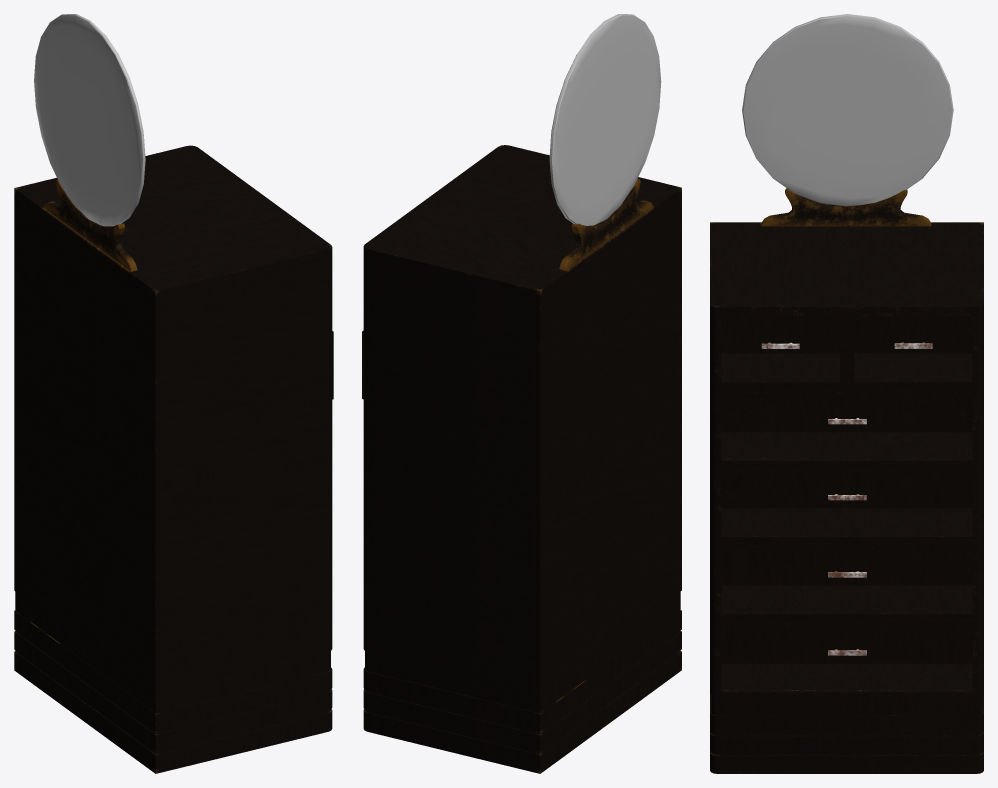
File: TallCabinet.fbx
3 views of the same model, side by side, from view 1: azimuth 30°, elevation 25°; view 2: azimuth 150°, elevation 25°; view 3: azimuth 270°, elevation 25° (orthographic). The views are drawn at different scales.
Visible parts, largest first — view 1: Drawer Body.001; view 2: Drawer Body.001; view 3: Drawer Body.001.
Boxes of the visible parts, bbox=[...] form: Drawer Body.001: bbox=[14, 14, 333, 773]; Drawer Body.001: bbox=[362, 14, 681, 773]; Drawer Body.001: bbox=[710, 14, 983, 773].
Size of the model in its own units: 82.85 by 292 by 107.
1 material, 1 textured.
